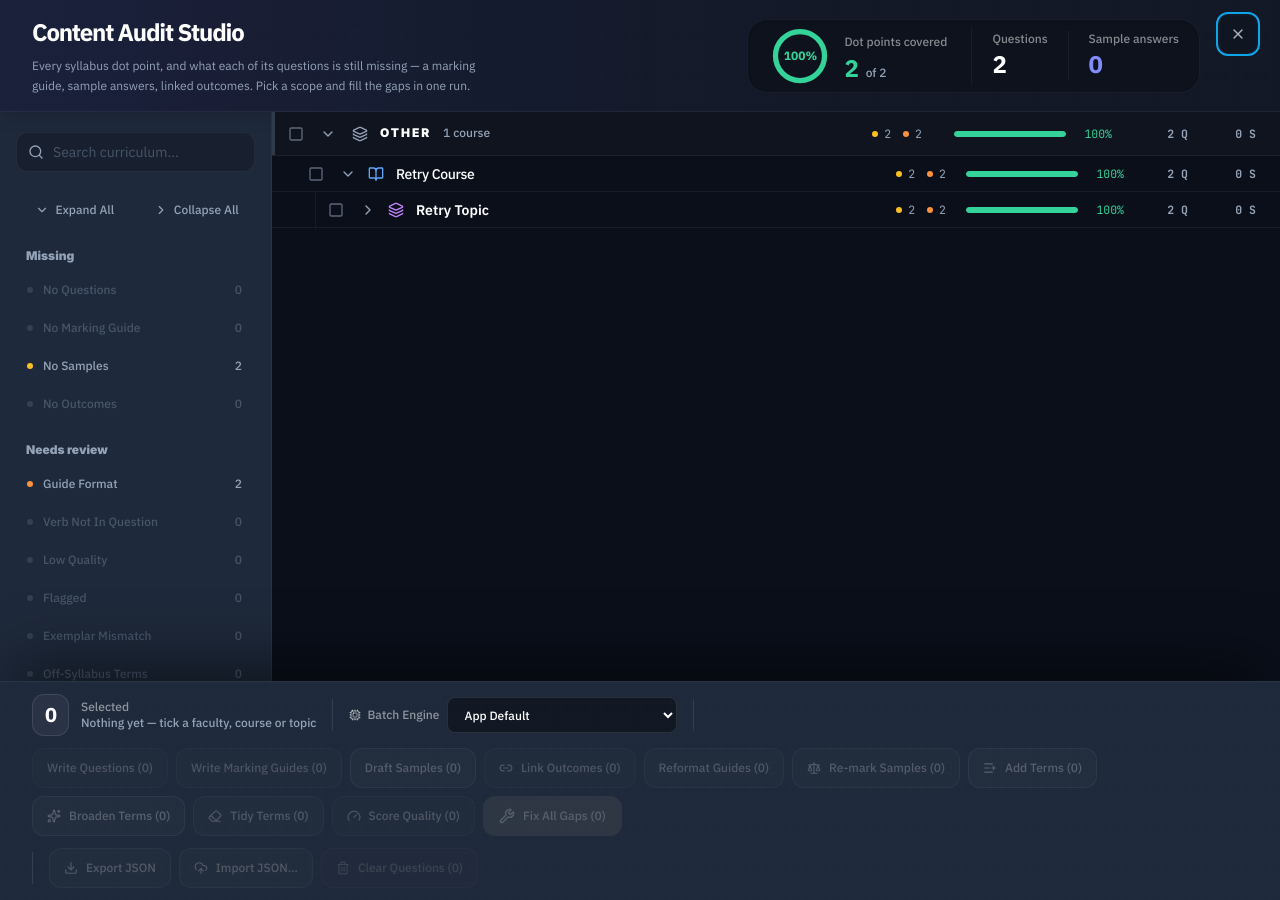
Scenario: Content Audit Studio — selecting a run of rows › shift-clicking a second row takes everything on screen between the two
Click the button "Expand All". click: [75, 210]
box: [16, 192, 134, 228]
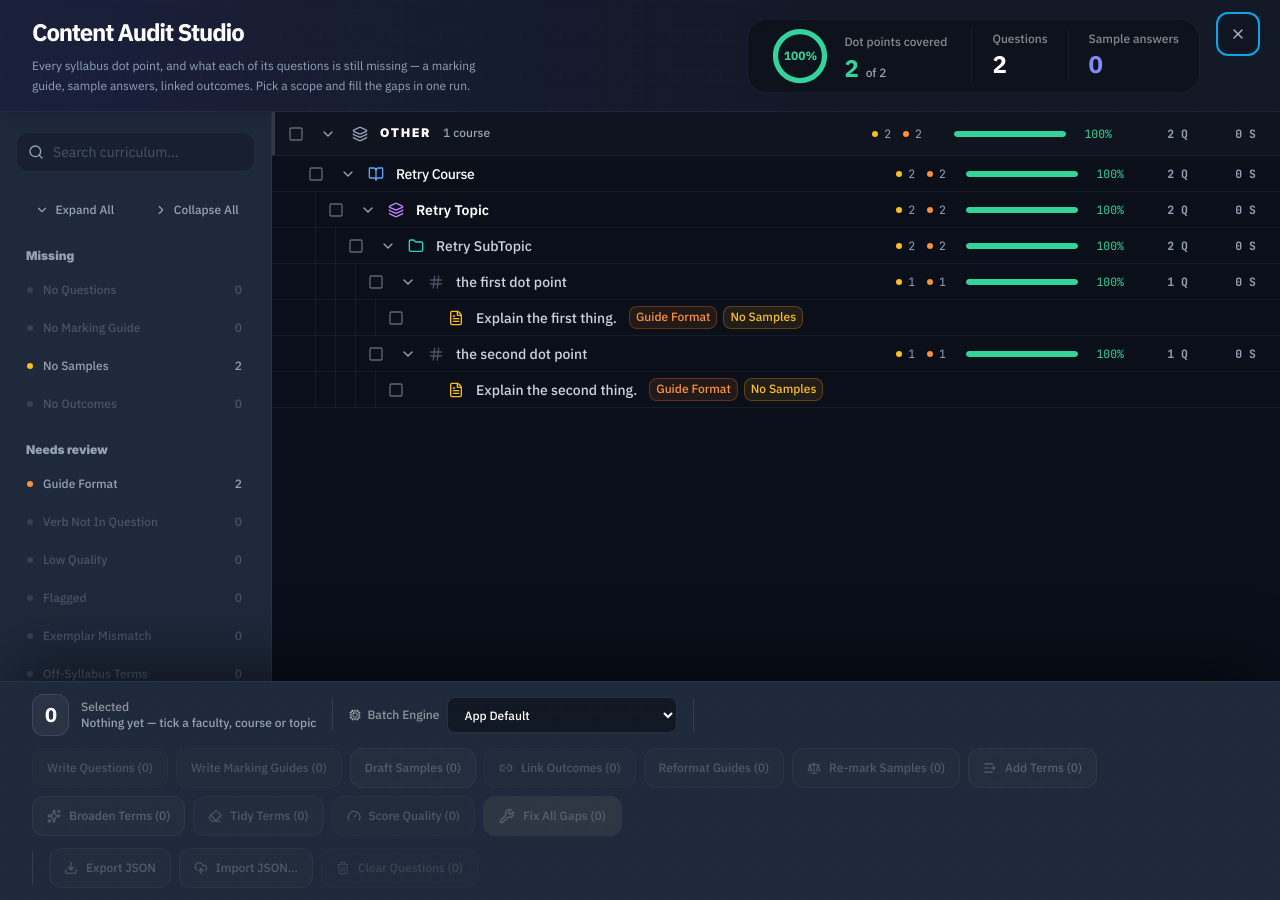
Click the button named "Select the first dot point". click: [376, 282]
box: [368, 274, 384, 290]
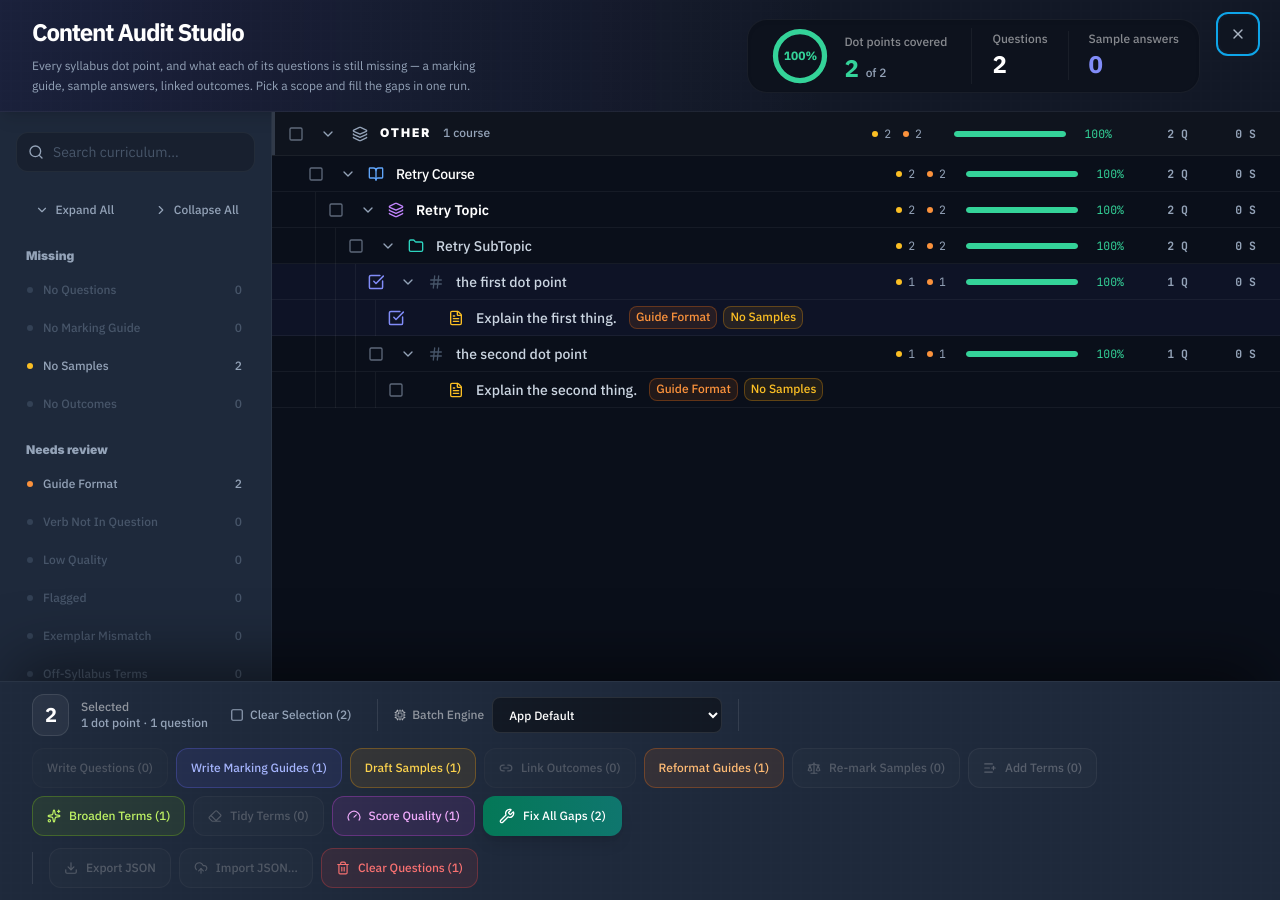
Check: the button "Clear Selection (2)" is shown, box [220, 699, 361, 731]
Click the button named "Select Explain the second thing.". click: [396, 390]
box: [388, 382, 404, 398]
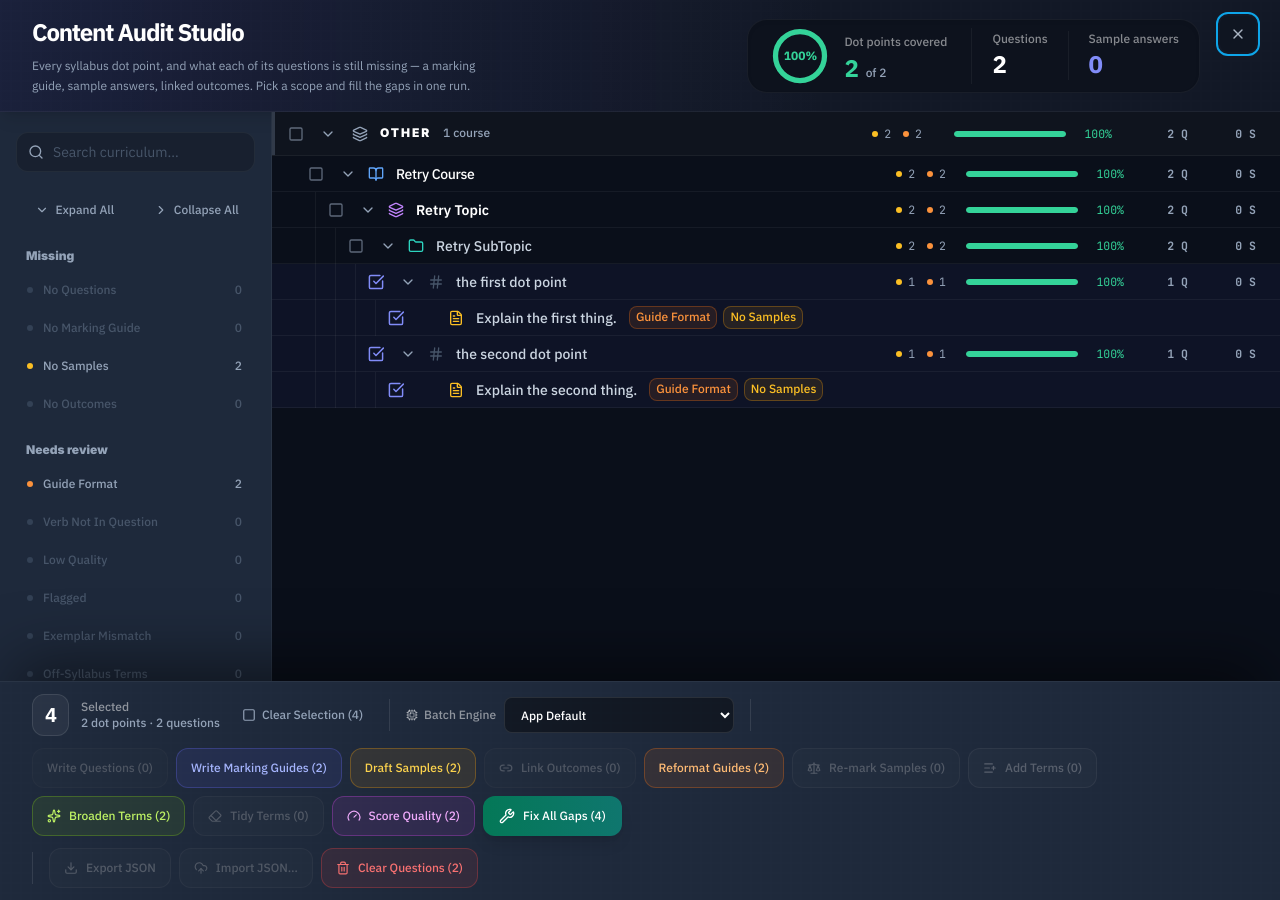
Check: the button "Clear Selection (4)" is shown, box [232, 699, 373, 731]
Check: the text "2 dot points · 2 questions" is shown, box [81, 715, 220, 731]
